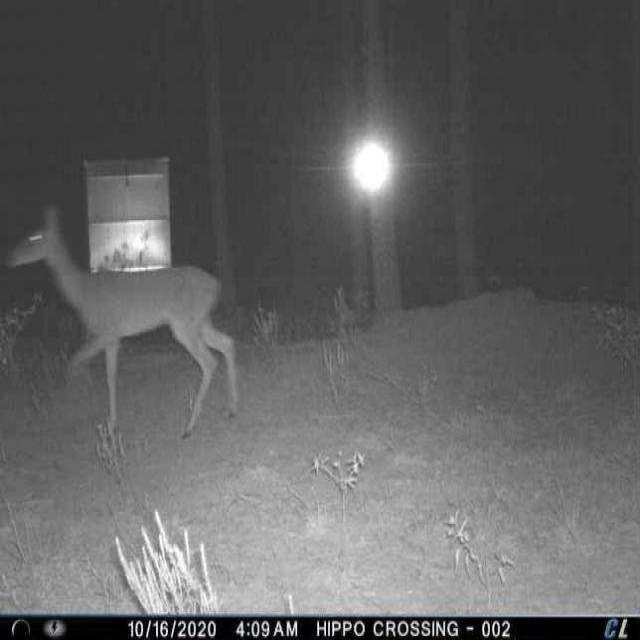deer: (54, 201, 244, 516)
